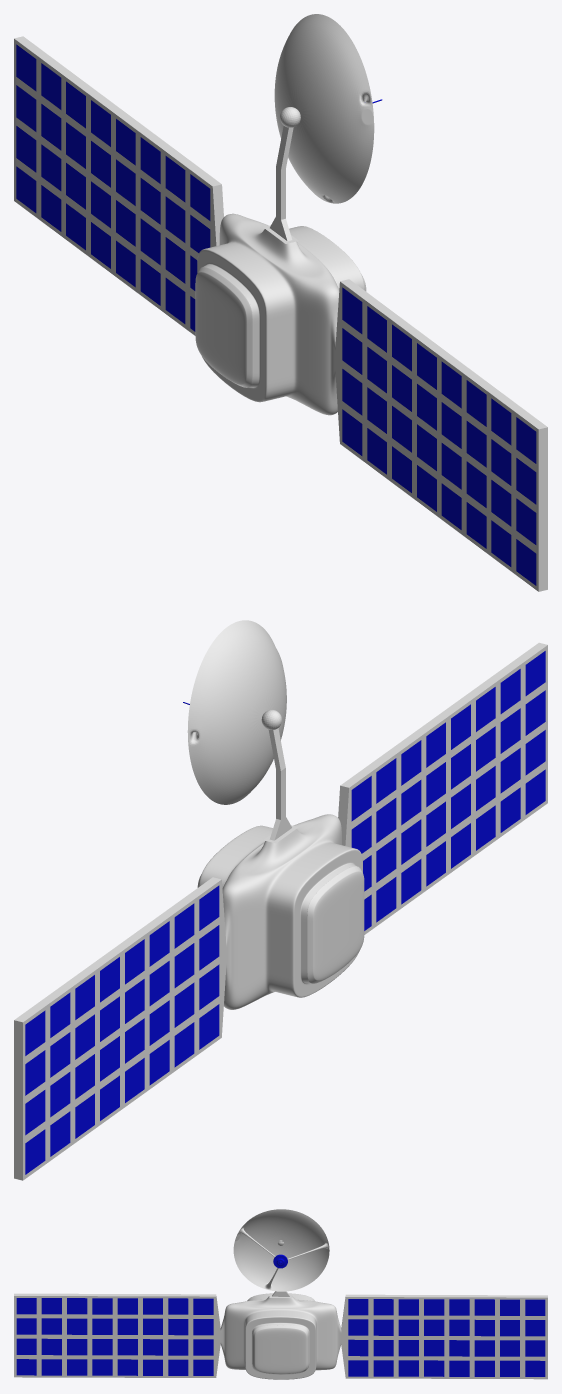
Rendered from uploads_files_3101763_Satellite+A.fbx.
The picture shows the model from 3 angles, top to bottom: view 1: azimuth 30°, elevation 25°; view 2: azimuth 150°, elevation 25°; view 3: azimuth 270°, elevation 25°; orthographic projection. The views are drawn at different scales.
Visible parts, largest first — view 1: Solar Panel, Main Body, Dish; view 2: Solar Panel, Main Body, Dish; view 3: Solar Panel, Main Body, Dish.
Part boxes in pixels (bbox=[...]): Solar Panel: bbox=[14, 36, 547, 591]; Main Body: bbox=[195, 213, 366, 415]; Dish: bbox=[274, 14, 382, 203]; Solar Panel: bbox=[14, 642, 547, 1180]; Main Body: bbox=[197, 814, 364, 1009]; Dish: bbox=[183, 620, 286, 804]; Solar Panel: bbox=[14, 1240, 547, 1379]; Main Body: bbox=[220, 1293, 341, 1379]; Dish: bbox=[233, 1209, 329, 1291].
Bounding box in the file's own units: 264 × 562 × 1502.
